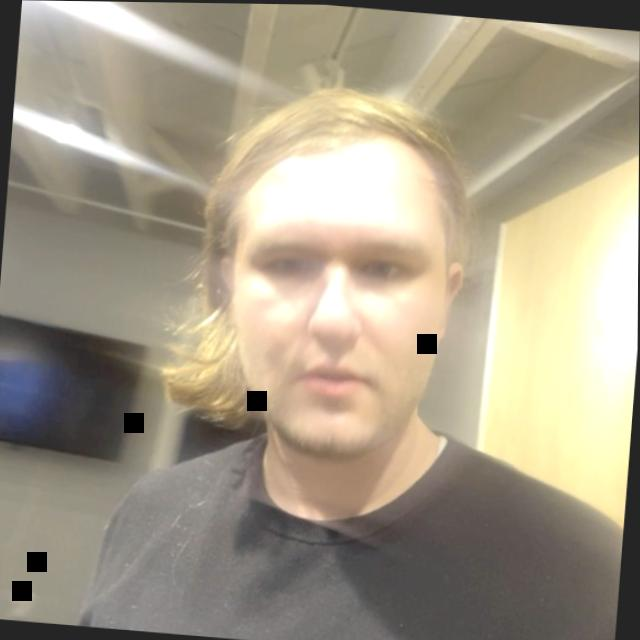NO-Mask: (127, 38, 503, 559)
